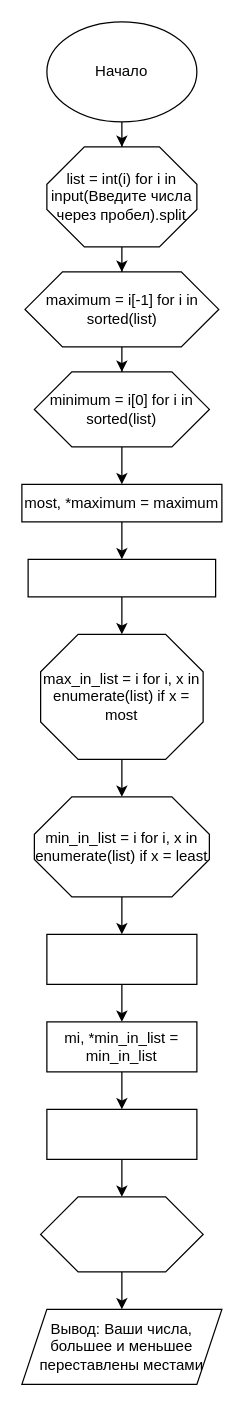
Image size: 244x1406. Some labels were removed from this diagram. Each missing label, with the centre of its shape:
' '.join(str(i) for i in list): [121,1234]
least, *minimum = minimum: [121,577]
list[mi], list[ma] = list[ma], list[mi]: [121,1133]
ma, *max_in_list = max_in_list: [121,958]
